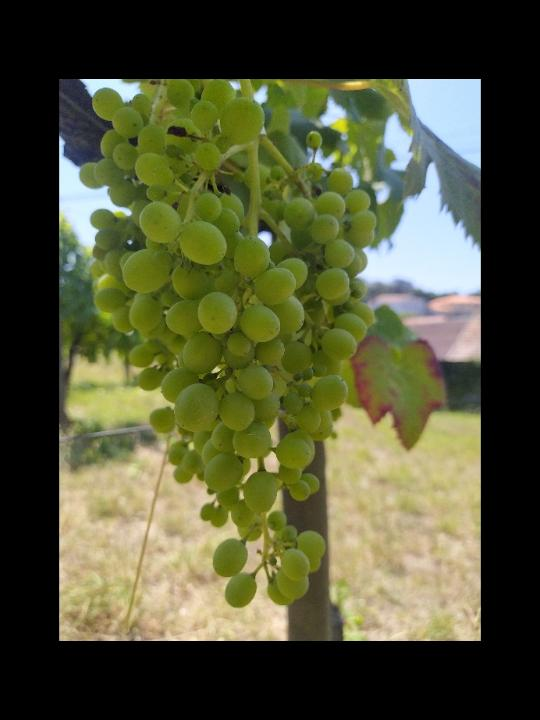grape: (78, 82, 380, 610)
